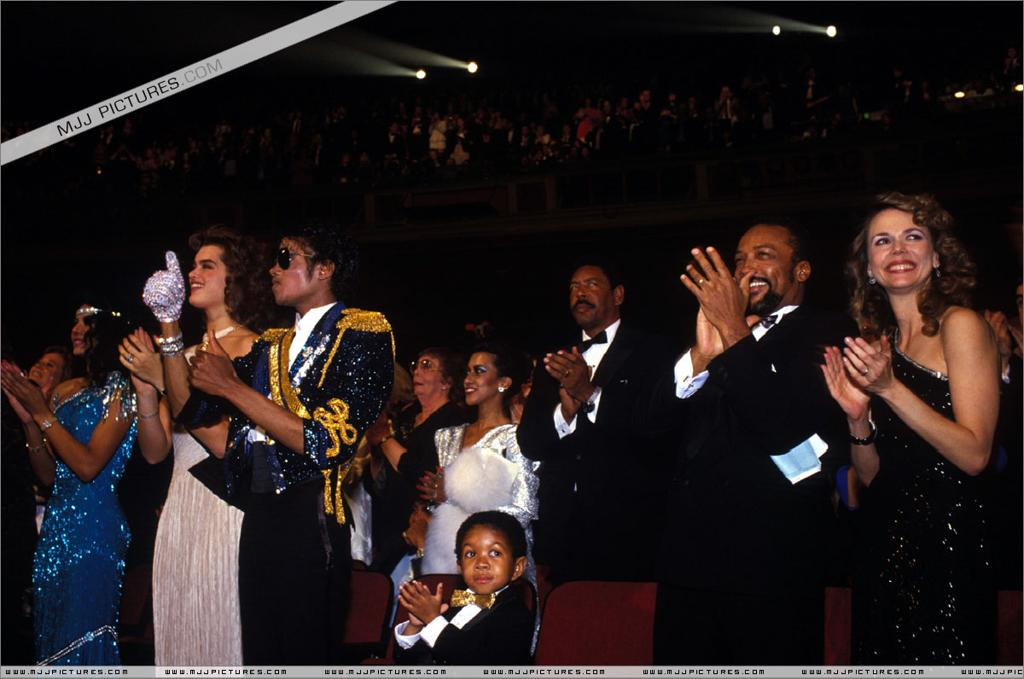face: (866, 214, 931, 288), (734, 233, 789, 314), (268, 237, 318, 305), (459, 529, 510, 595), (187, 245, 226, 306), (569, 269, 610, 326), (463, 354, 499, 405), (22, 353, 61, 390), (70, 307, 99, 355), (412, 355, 440, 395)
